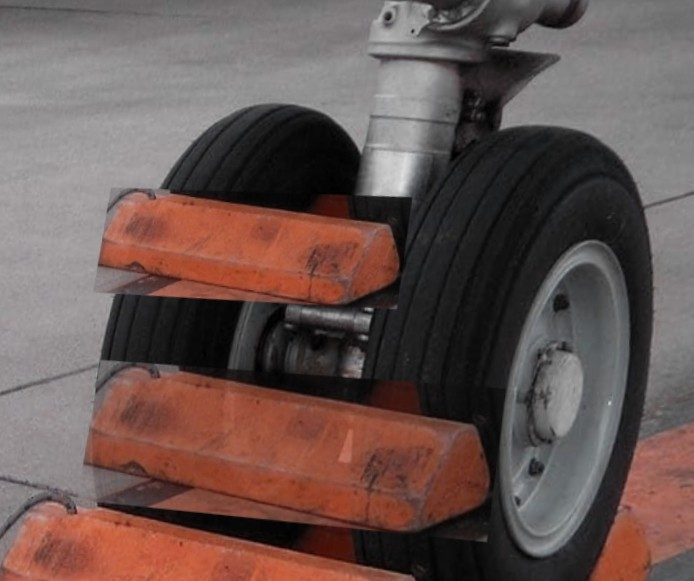chock: (74, 339, 507, 547), (90, 161, 414, 327), (0, 483, 450, 581)
wheel: (334, 98, 678, 581), (67, 75, 389, 554)
